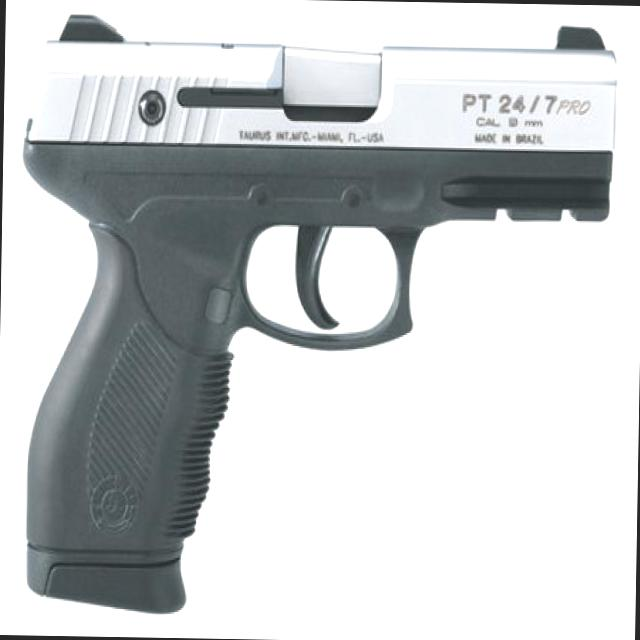handgun: (17, 10, 616, 600)
